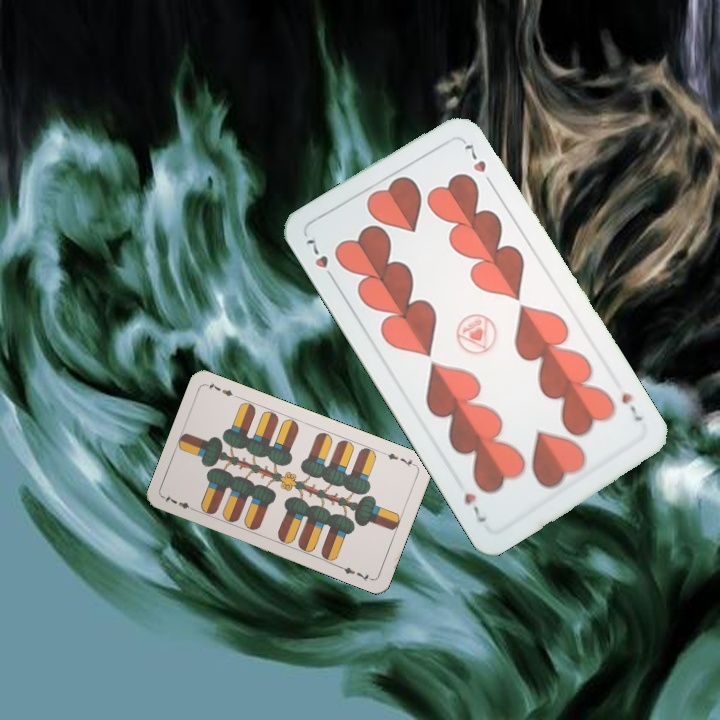E7: (160, 491, 199, 514), (379, 448, 418, 470)
H7: (302, 234, 339, 285), (617, 389, 645, 425)
